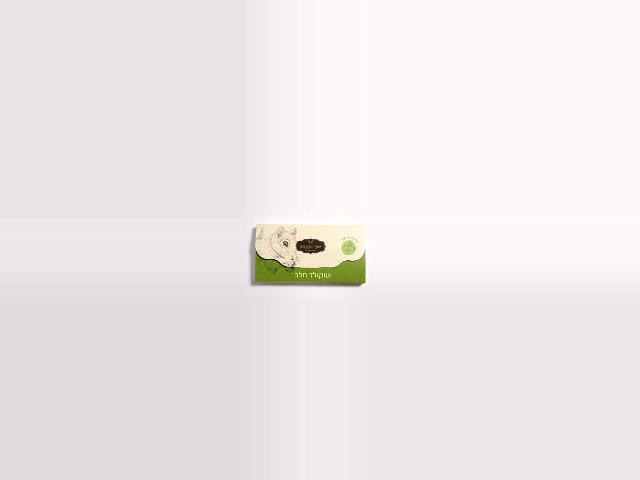chocolate: (253, 222, 366, 285)
